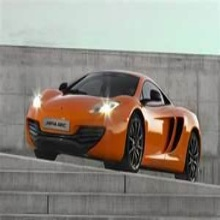no damage: (24, 69, 202, 181)
